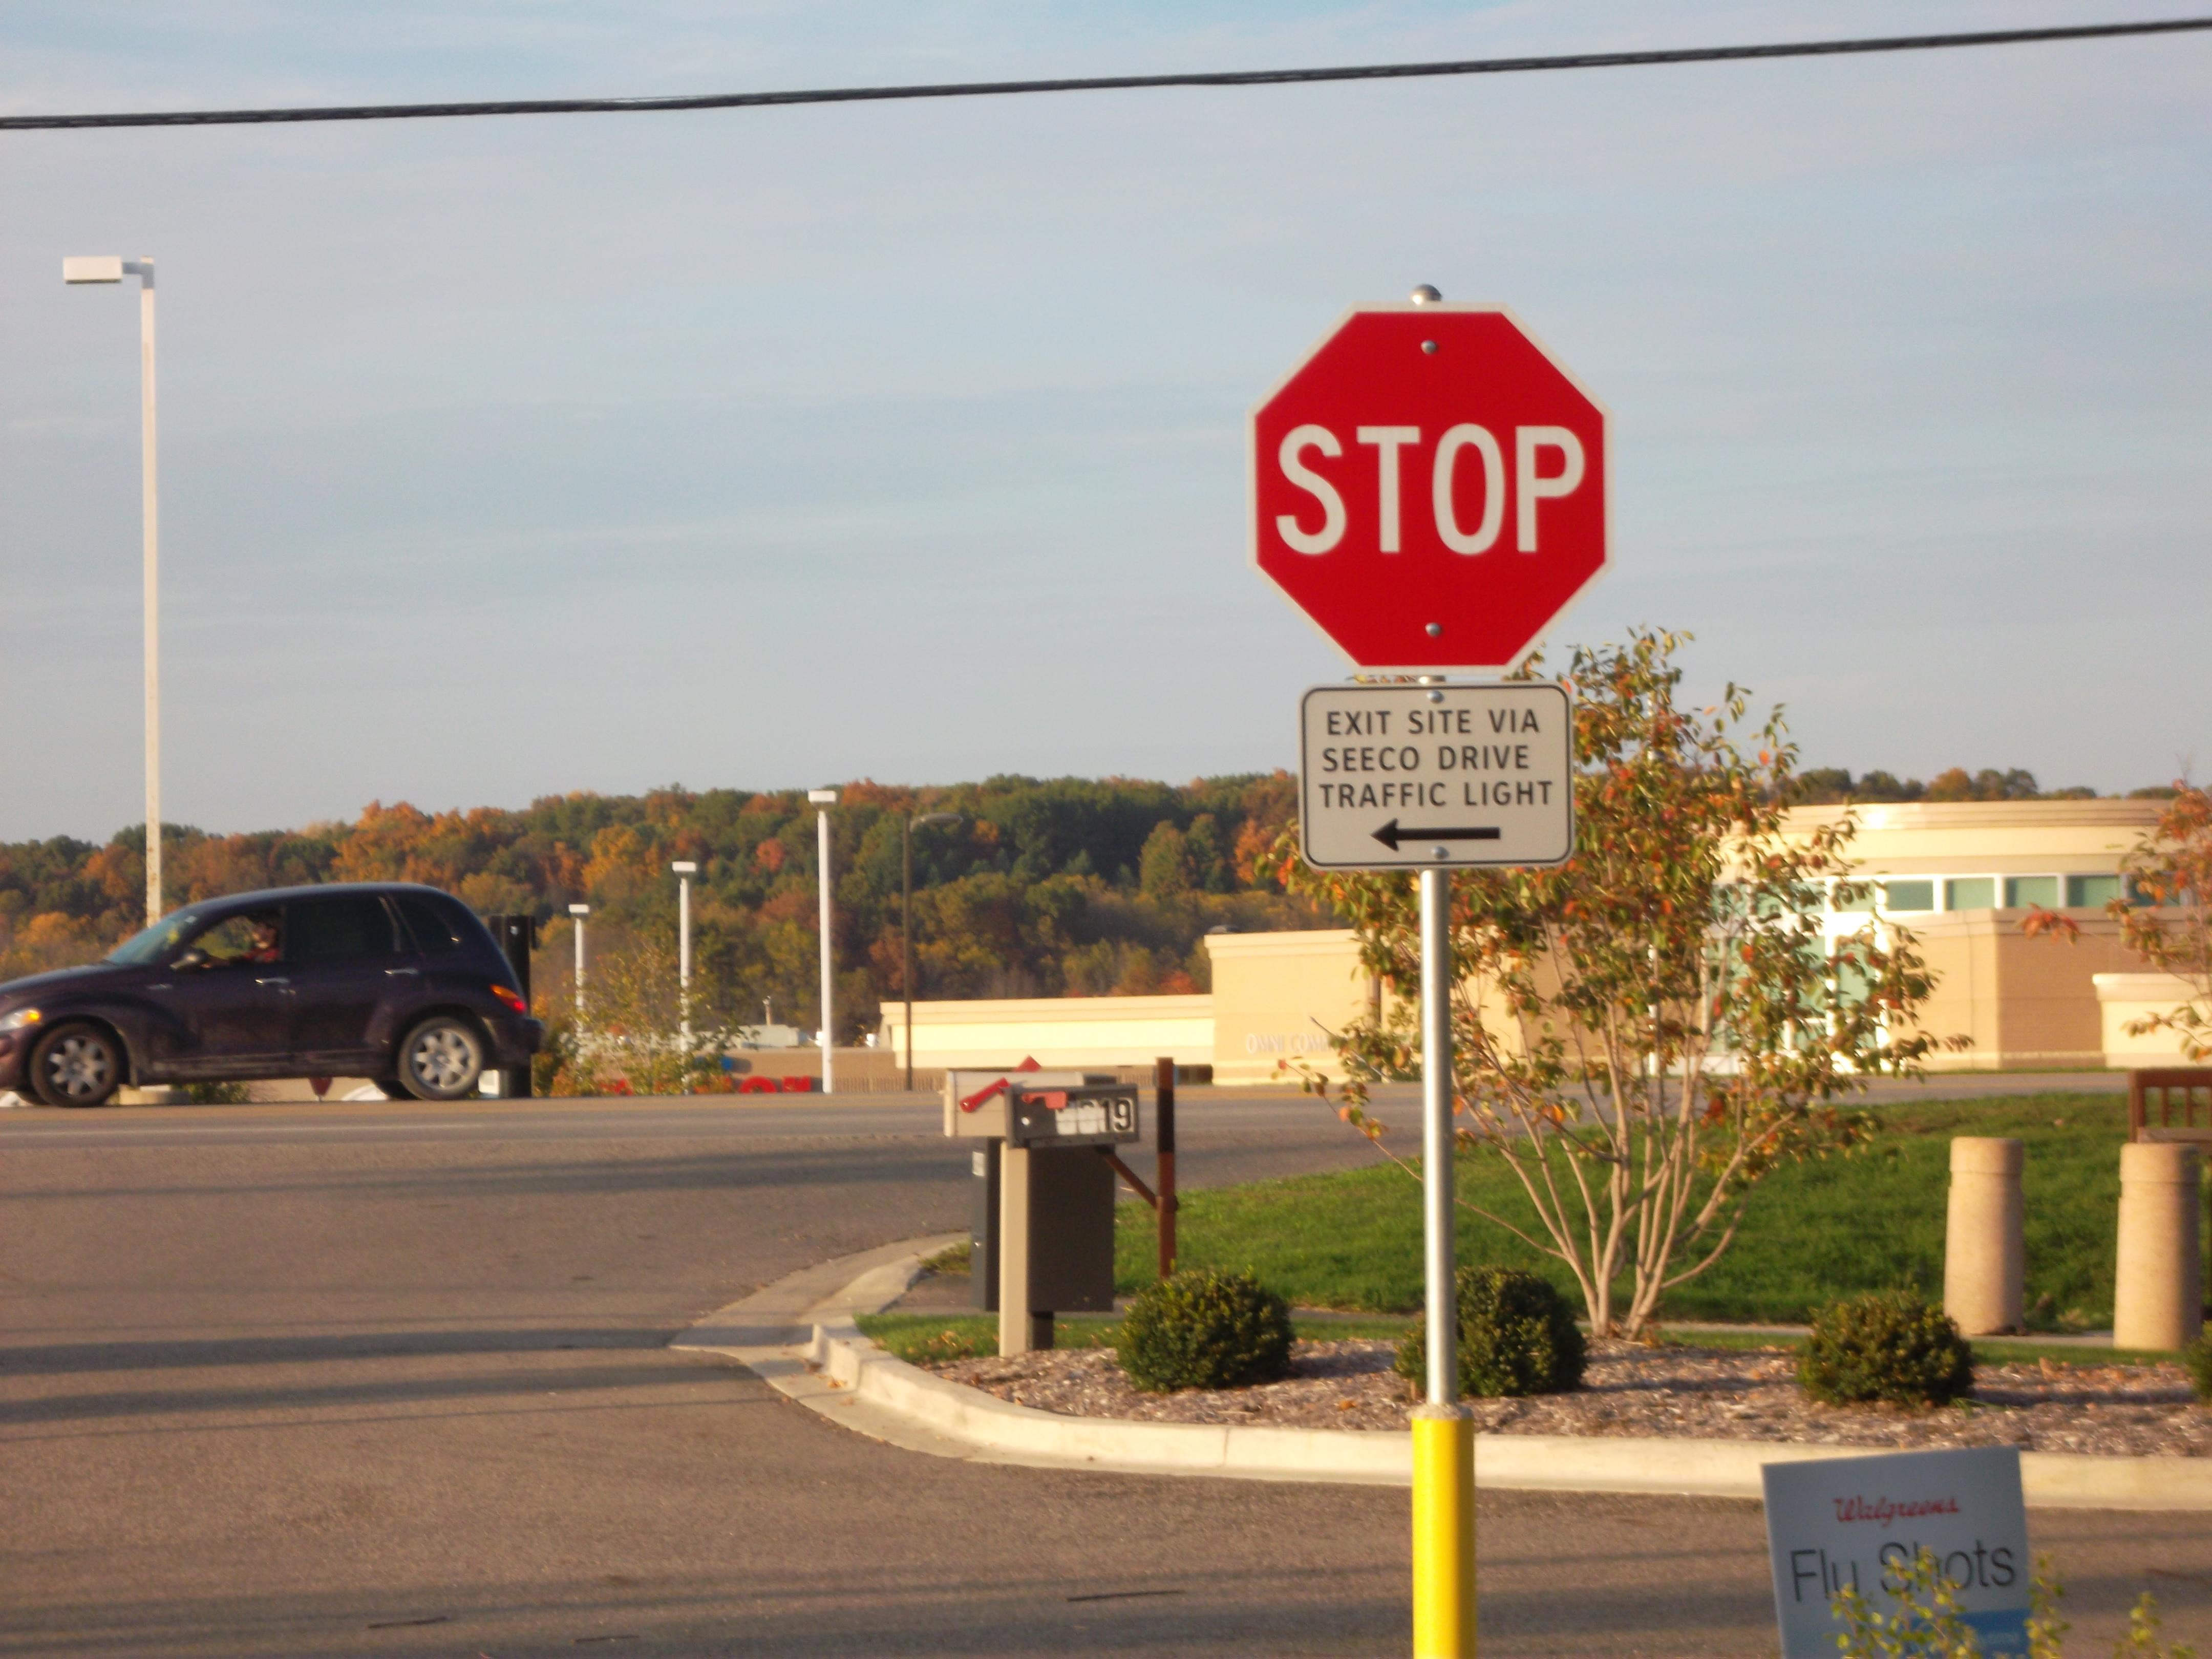regulatory: (1292, 680, 1578, 875)
stop: (1261, 305, 1616, 676)
